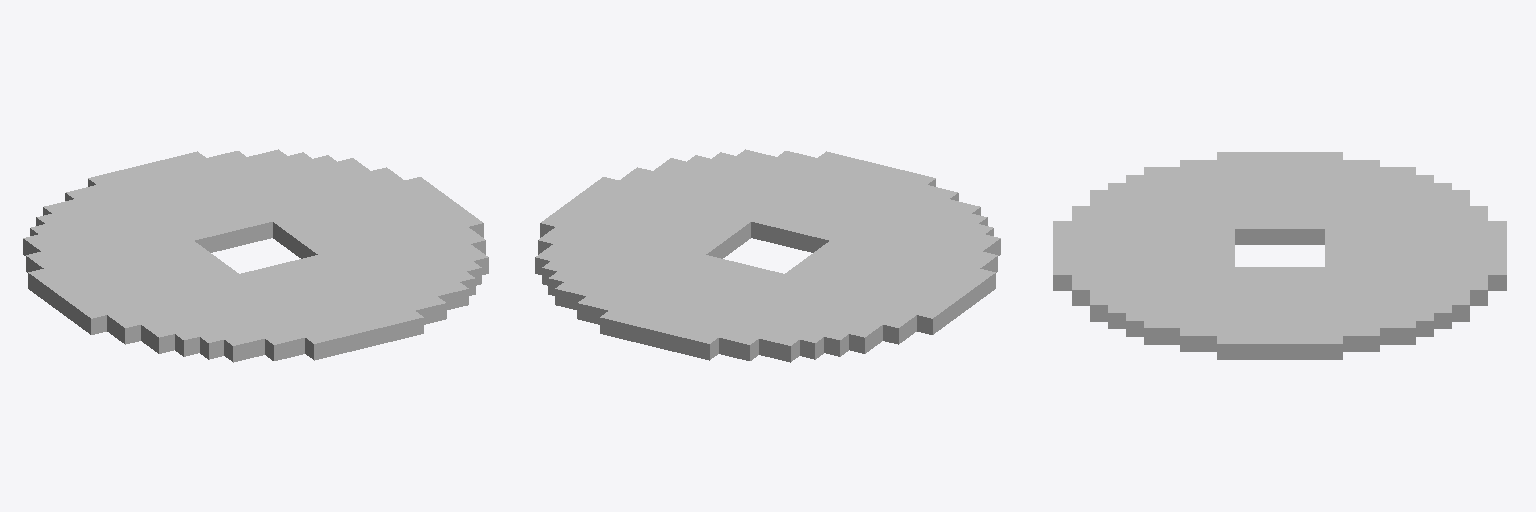
The model's file is wheel.obj.
The picture shows the model from 3 angles: view 1: azimuth 30°, elevation 25°; view 2: azimuth 150°, elevation 25°; view 3: azimuth 270°, elevation 25°; orthographic projection.
Size of the model in its own units: 25 by 1 by 25.